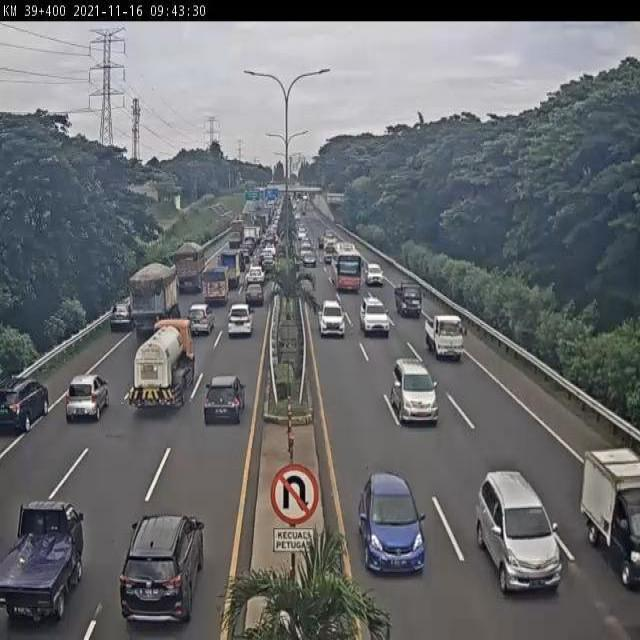car: (116, 512, 206, 640), (1, 497, 81, 640), (477, 471, 563, 595), (360, 473, 426, 575), (390, 356, 438, 425), (0, 376, 51, 440), (61, 373, 110, 428), (202, 372, 247, 429), (425, 313, 466, 364), (359, 296, 392, 339), (318, 299, 347, 339), (187, 302, 217, 338), (393, 279, 420, 317), (104, 305, 132, 339), (228, 304, 253, 340), (244, 283, 266, 312), (364, 263, 383, 287)
truck: (580, 448, 640, 593), (125, 316, 195, 417), (130, 263, 180, 339), (173, 241, 208, 295), (329, 240, 363, 293), (200, 263, 229, 308)
